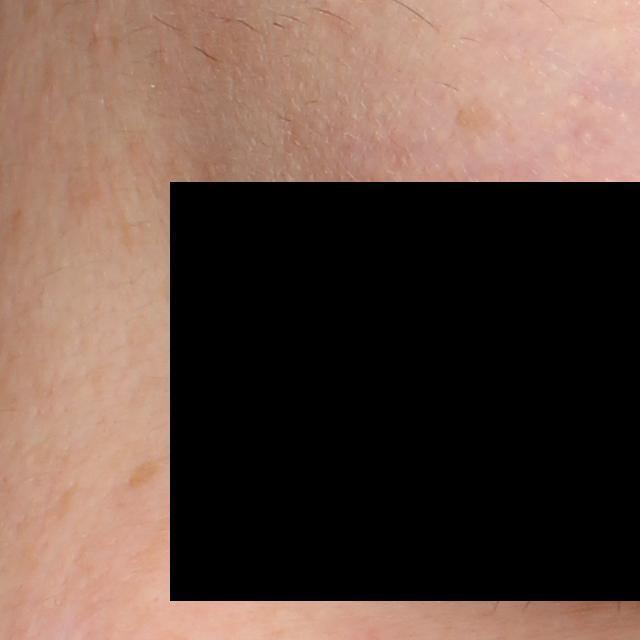melasma: (136, 507, 186, 568), (129, 451, 178, 485)
